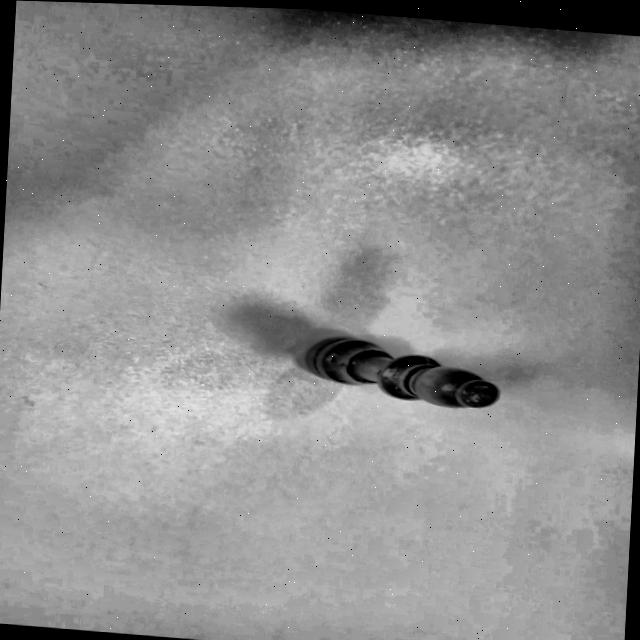black-bishop: (291, 327, 514, 418)
